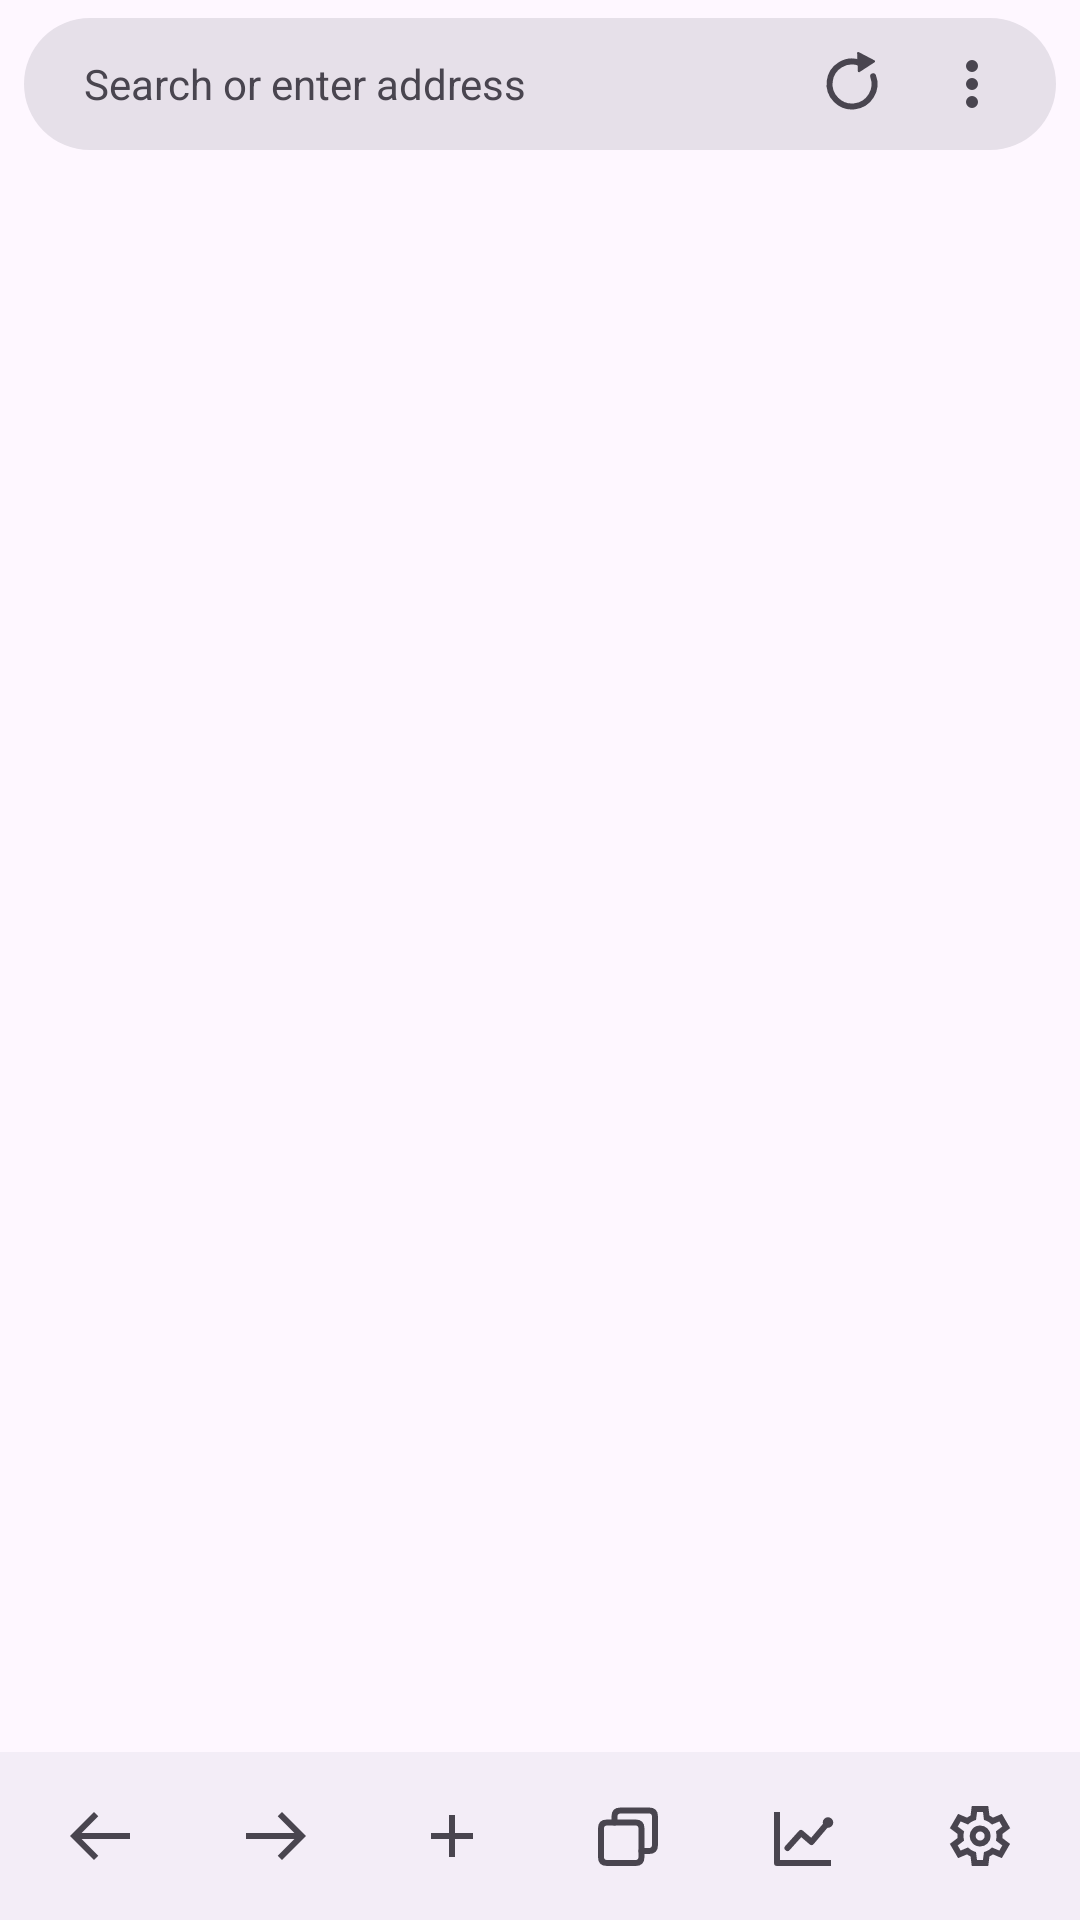

Icon bounding boxes for this 1080×1920 phone screenshot, format [x1,y1,x2,y2]:
All tabs: [598,1807,658,1866]
Analysis hub: [774,1812,834,1866]
Back: [70,1812,130,1860]
Forward: [246,1812,306,1860]
Menu: [966,60,978,108]
New tab: [431,1815,473,1857]
Reload: [826,52,878,110]
Settings: [950,1806,1010,1866]
